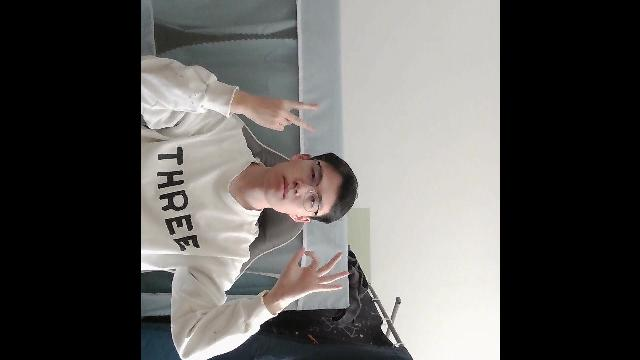ok: (270, 248, 348, 305)
yes: (238, 96, 320, 132)
